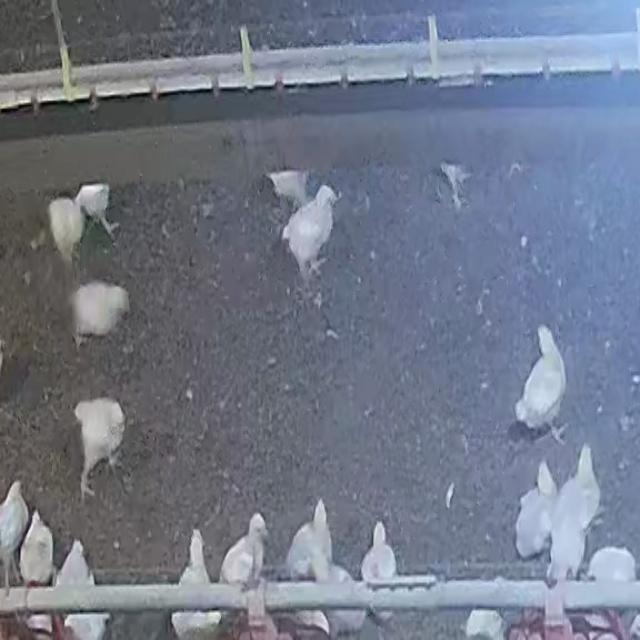chicken: (515, 324, 579, 441), (72, 397, 126, 501), (280, 187, 339, 277), (171, 529, 217, 640), (54, 539, 100, 640), (70, 280, 130, 350), (361, 522, 400, 628), (515, 462, 556, 560), (286, 499, 334, 581), (558, 441, 599, 531), (221, 513, 269, 586), (0, 478, 30, 586), (48, 196, 84, 266)
